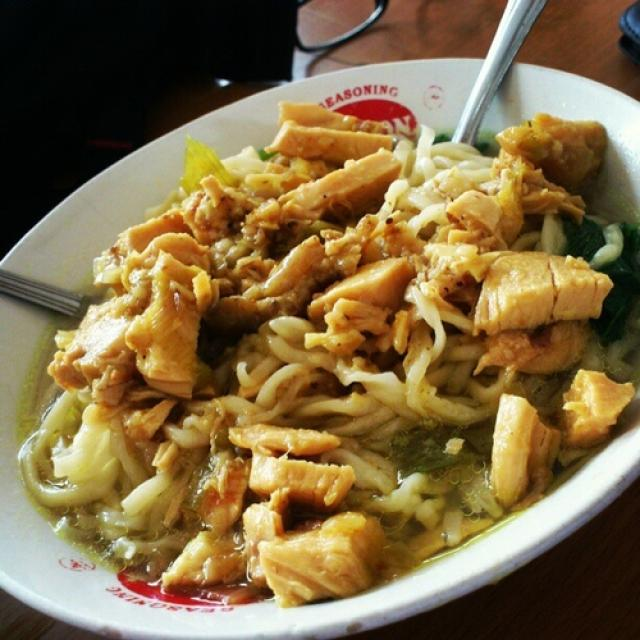面条主食: (13, 44, 609, 616)
